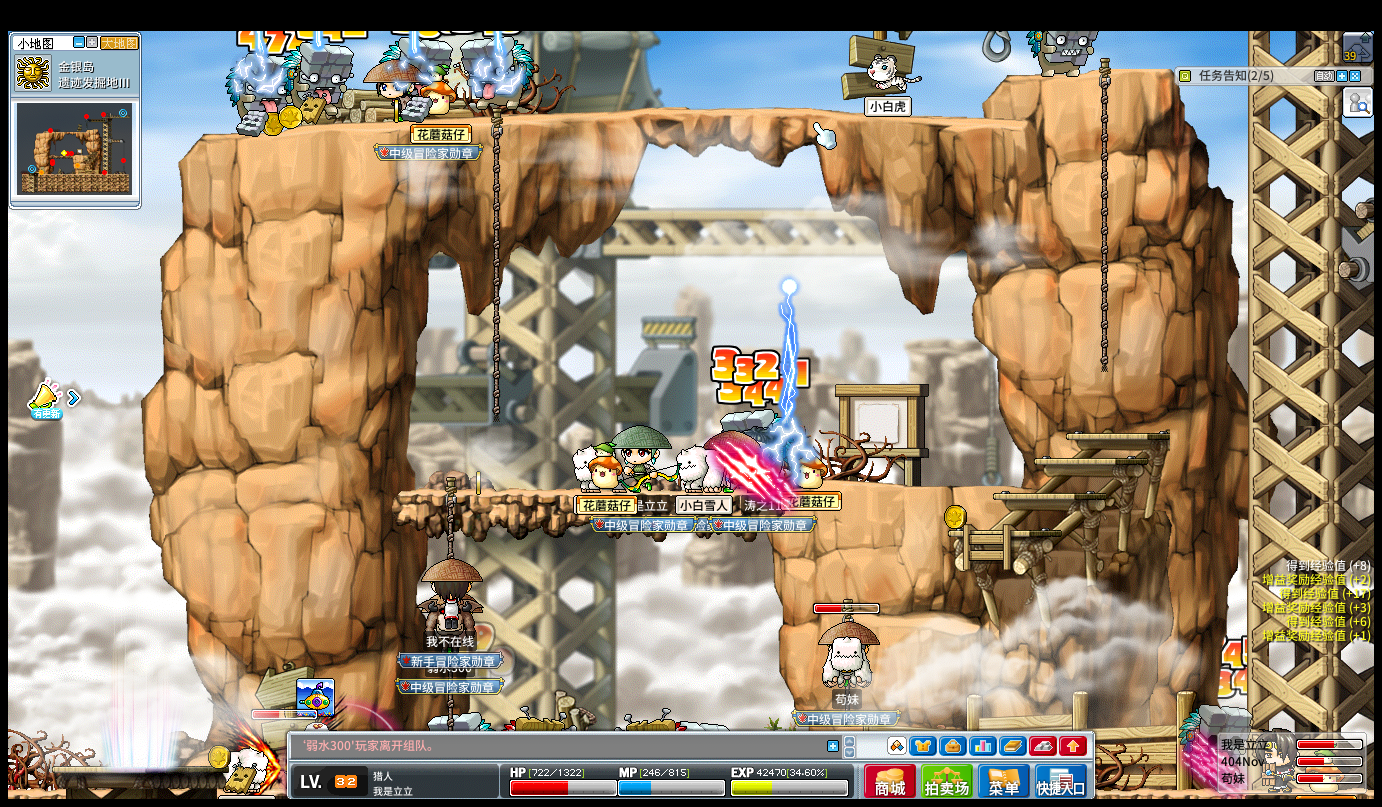floor: (200, 104, 1034, 139), (392, 487, 784, 498), (875, 612, 981, 636), (1004, 65, 1174, 79), (872, 482, 1032, 492), (1064, 429, 1171, 441), (946, 528, 1062, 537), (1029, 456, 1147, 464), (994, 492, 1105, 500)
monster: (282, 40, 353, 127), (1177, 704, 1249, 789), (462, 32, 534, 109), (224, 54, 282, 138), (420, 34, 453, 79)
rope: (490, 107, 502, 426), (1099, 58, 1110, 374), (443, 476, 457, 558)
